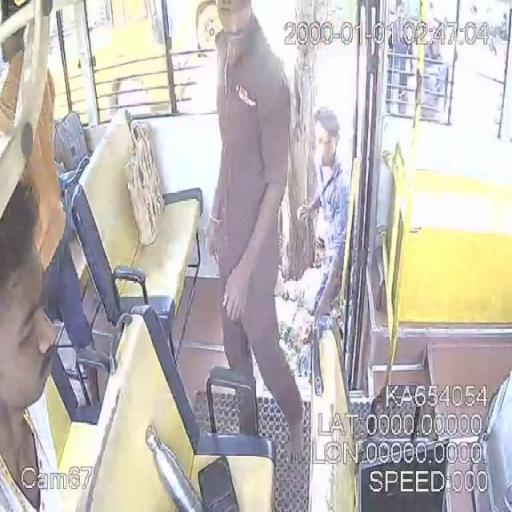persona: (204, 0, 306, 464), (0, 189, 74, 511), (296, 106, 352, 334)
